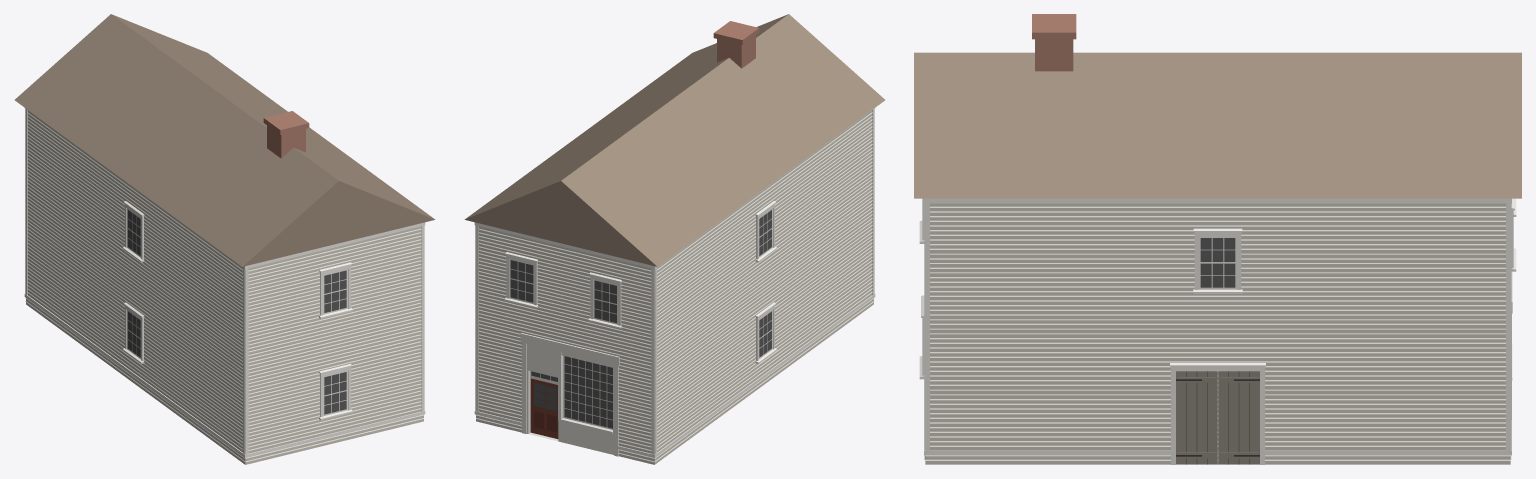
The model's file is recon_1835_core_c3_032__inferred_1835.glb.
3 views of the same model, side by side, from view 1: azimuth 30°, elevation 25°; view 2: azimuth 150°, elevation 25°; view 3: azimuth 270°, elevation 25° (orthographic). The views are drawn at different scales.
Visible parts, largest first — view 1: recon_1835_core_c3_032__inferred_1835; view 2: recon_1835_core_c3_032__inferred_1835; view 3: recon_1835_core_c3_032__inferred_1835.
Boxes of the visible parts, x1,y1,x2,y2 form: recon_1835_core_c3_032__inferred_1835: (14, 14, 435, 464); recon_1835_core_c3_032__inferred_1835: (464, 14, 885, 464); recon_1835_core_c3_032__inferred_1835: (914, 14, 1521, 464).
Size of the model in its own units: 6.56 by 9.31 by 13.39.
